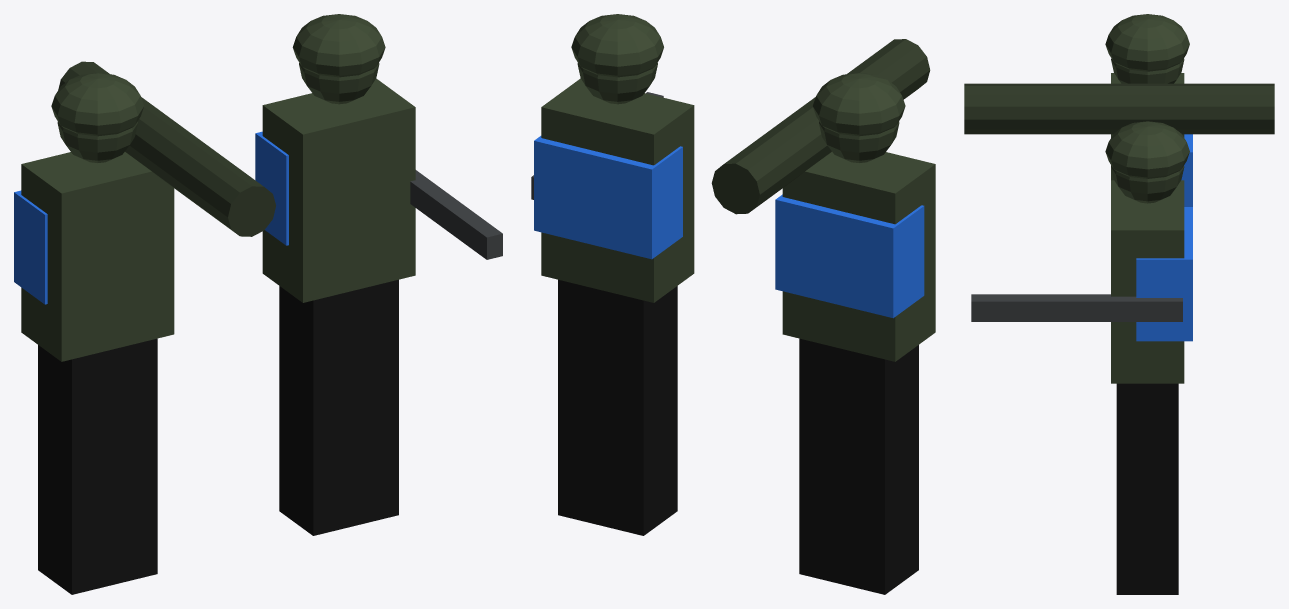
The model's file is ru_at_team.glb.
3 renders of one model, left to right at view 1: azimuth 30°, elevation 25°; view 2: azimuth 150°, elevation 25°; view 3: azimuth 270°, elevation 25°, orthographic. The views are drawn at different scales.
Visible parts, largest first — view 1: soldier_0, soldier_1, torso_1, torso_0, launcher_0, helmet_1, helmet_0, rifle_1, vest_0, vest_1, head_0, head_1; view 2: soldier_0, soldier_1, torso_1, torso_0, vest_0, vest_1, launcher_0, helmet_1, helmet_0, head_1, head_0; view 3: launcher_0, soldier_1, torso_1, rifle_1, vest_1, helmet_1, helmet_0, head_1, head_0, vest_0.
Part boxes in pixels (x1=…): soldier_0: x1=38, y1=338, x2=157, y2=594; soldier_1: x1=279, y1=279, x2=398, y2=535; torso_1: x1=262, y1=78, x2=415, y2=302; torso_0: x1=21, y1=152, x2=174, y2=361; launcher_0: x1=58, y1=61, x2=275, y2=236; helmet_1: x1=292, y1=14, x2=385, y2=77; helmet_0: x1=51, y1=73, x2=143, y2=136; rifle_1: x1=410, y1=170, x2=502, y2=259; vest_0: x1=14, y1=190, x2=47, y2=304; vest_1: x1=255, y1=131, x2=288, y2=245; head_0: x1=57, y1=122, x2=137, y2=162; head_1: x1=299, y1=63, x2=379, y2=104; soldier_0: x1=799, y1=338, x2=918, y2=594; soldier_1: x1=558, y1=279, x2=677, y2=535; torso_1: x1=541, y1=78, x2=694, y2=302; torso_0: x1=782, y1=152, x2=935, y2=361; vest_0: x1=775, y1=194, x2=924, y2=318; vest_1: x1=534, y1=136, x2=682, y2=259; launcher_0: x1=711, y1=39, x2=930, y2=214; helmet_1: x1=571, y1=14, x2=663, y2=77; helmet_0: x1=813, y1=73, x2=905, y2=136; head_1: x1=577, y1=63, x2=657, y2=104; head_0: x1=819, y1=121, x2=899, y2=162; launcher_0: x1=964, y1=83, x2=1274, y2=134; soldier_1: x1=1116, y1=383, x2=1178, y2=594; torso_1: x1=1111, y1=180, x2=1184, y2=383; rifle_1: x1=971, y1=294, x2=1182, y2=321; vest_1: x1=1136, y1=207, x2=1192, y2=341; helmet_1: x1=1105, y1=121, x2=1189, y2=178; helmet_0: x1=1105, y1=14, x2=1189, y2=71; head_1: x1=1111, y1=166, x2=1184, y2=203; head_0: x1=1111, y1=58, x2=1184, y2=83; vest_0: x1=1181, y1=134, x2=1192, y2=206.
Bounding box in the file's own units: 1.78 × 2.28 × 1.43.
